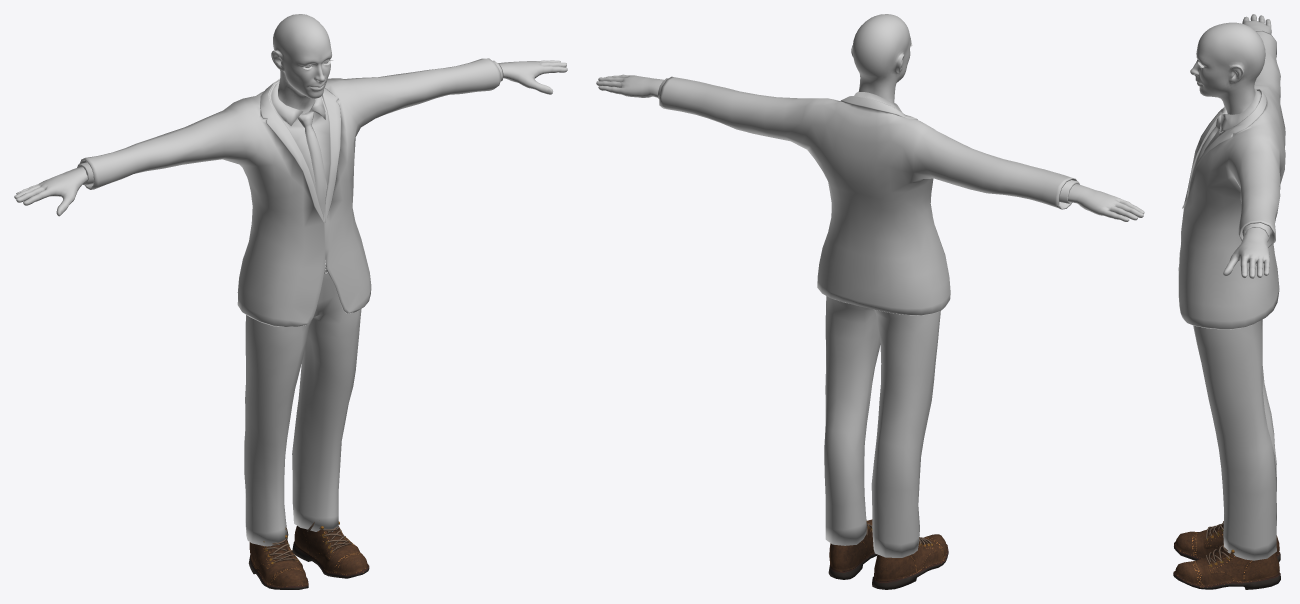
File: MaleModel1.obj
3 renders of one model, left to right at view 1: azimuth 30°, elevation 25°; view 2: azimuth 150°, elevation 25°; view 3: azimuth 270°, elevation 25°, orthographic.
Visible parts, largest first — view 1: Tops, Bottoms, Body, Shoes; view 2: Tops, Bottoms, Body, Shoes; view 3: Tops, Bottoms, Body, Shoes.
Part boxes in pixels (x1,y1,x2,y2): Tops: [77, 58, 503, 326]; Bottoms: [244, 260, 361, 546]; Body: [14, 14, 567, 259]; Shoes: [248, 521, 369, 589]; Tops: [657, 76, 1079, 315]; Bottoms: [824, 296, 940, 557]; Body: [596, 14, 1144, 221]; Shoes: [828, 519, 948, 589]; Tops: [1178, 31, 1285, 329]; Bottoms: [1193, 319, 1276, 560]; Body: [1190, 14, 1271, 278]; Shoes: [1173, 521, 1280, 589].
Bounding box in the file's own units: 0.187 × 0.1798 × 0.0335.
